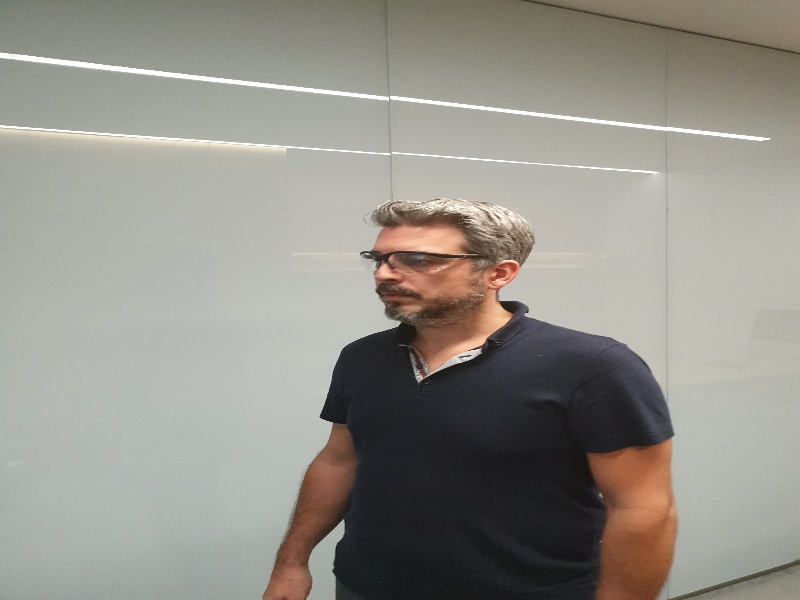Gozluk: (361, 250, 483, 269)
